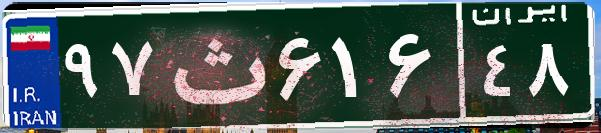1: (330, 28, 385, 110)
4: (475, 38, 525, 113)
6: (385, 28, 445, 110), (273, 28, 330, 110)
7: (110, 28, 158, 105)
8: (525, 38, 570, 115)
9: (57, 26, 110, 107)
ث: (158, 15, 273, 115)
